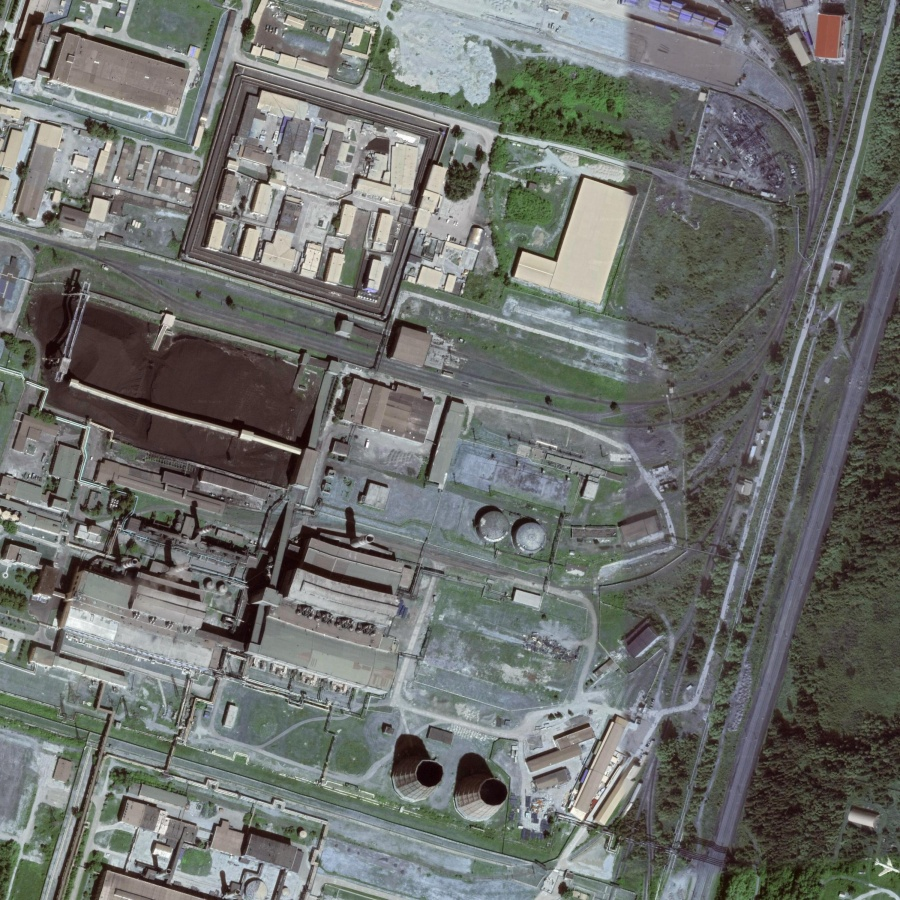PowerPlant: (10, 265, 568, 834)
